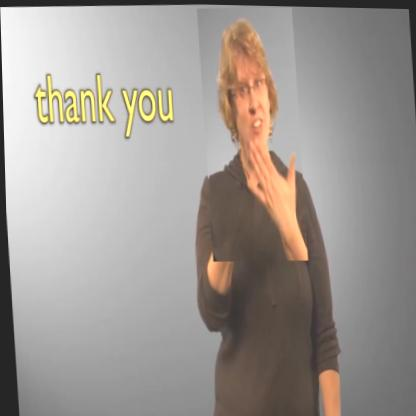ThankYou: (197, 4, 307, 262)
